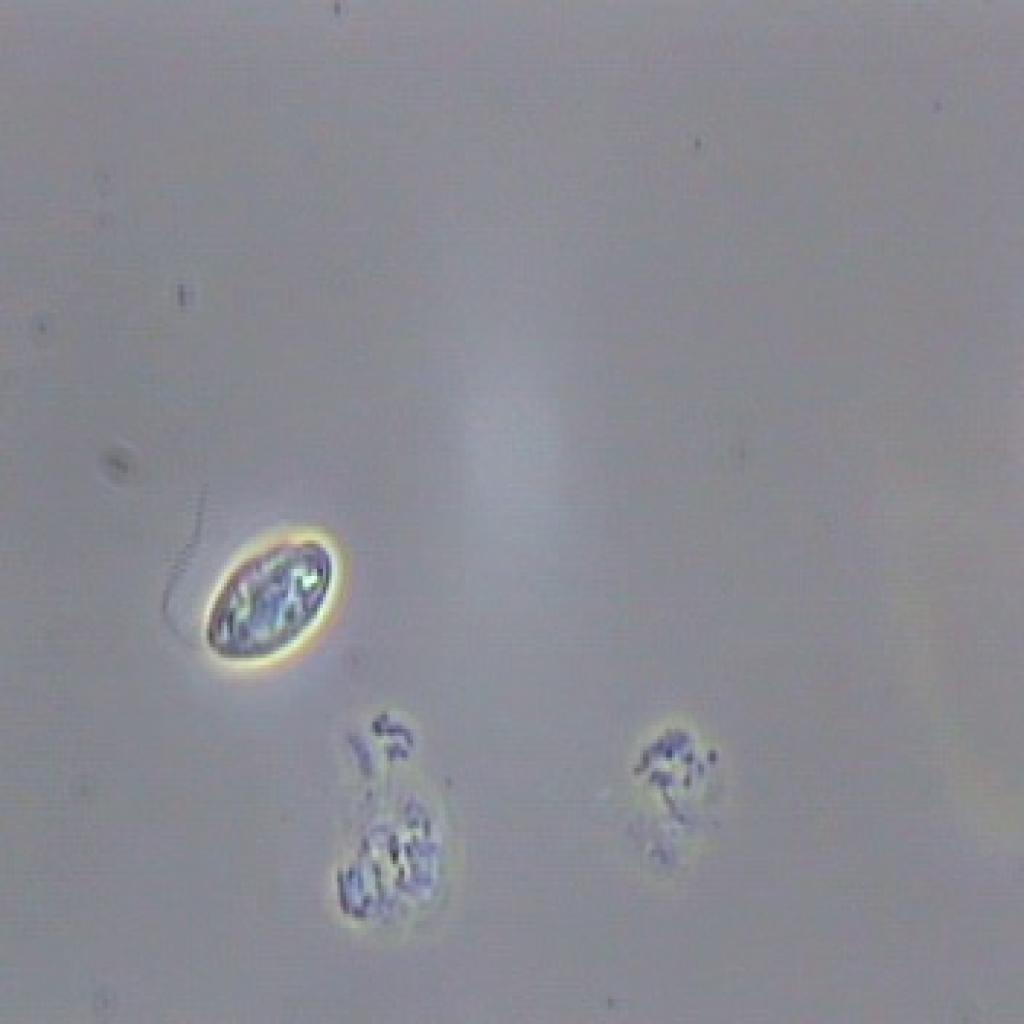Flagellates: (140, 485, 360, 674)
